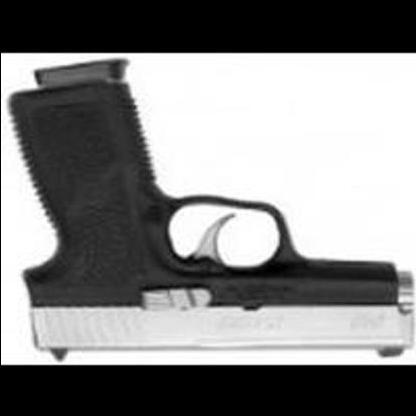weapon: (4, 58, 415, 362)
